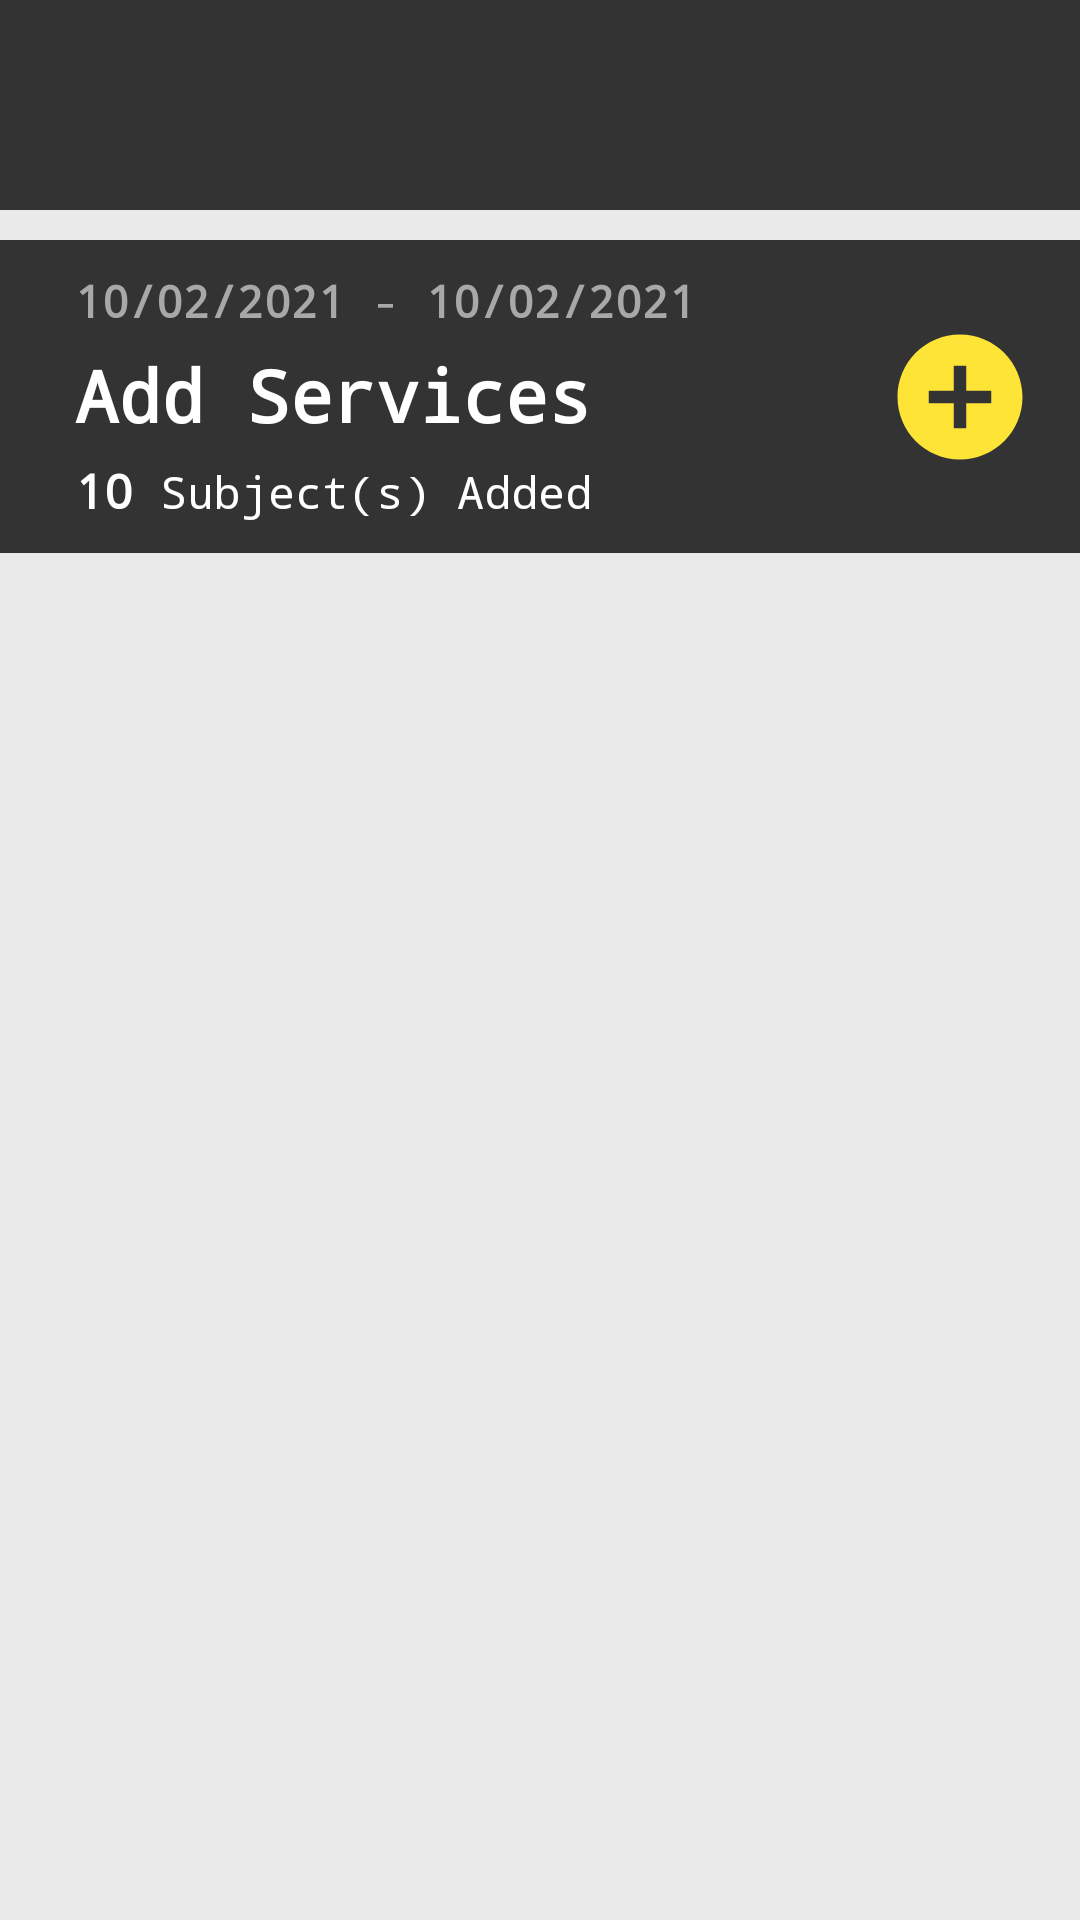

Named icons in this screenshot (1080*1920) and their bounding boxes, (x1, y1, x2, y2):
add circle: (897, 334, 1023, 460)
